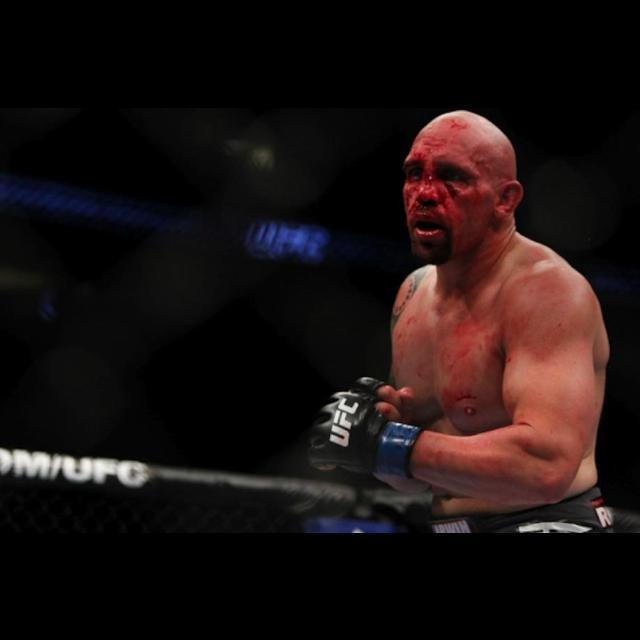blood: (404, 139, 491, 264), (436, 322, 503, 427)
